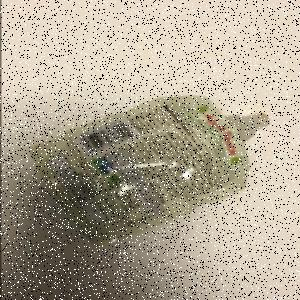Trash: (28, 96, 271, 249)
